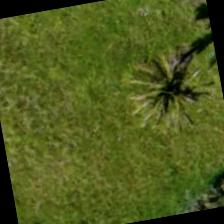Kelapa_Sawit: (121, 26, 223, 131)
